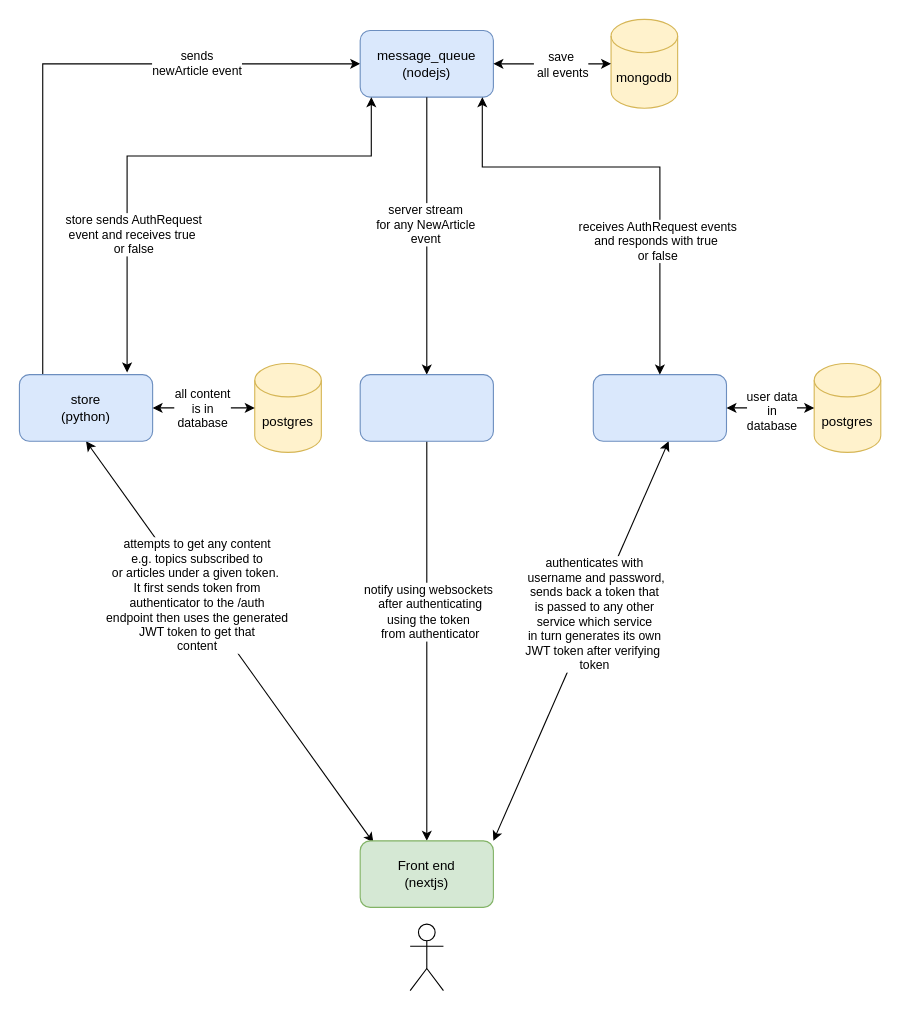
Some shapes in this 900 by 1033 pixel diagram are drawn without their labels. Each missing label, with the centre of its shape:
Actor: [426,957]
authenticator (nodejs): [659,407]
notifier (nodejs): [426,407]
